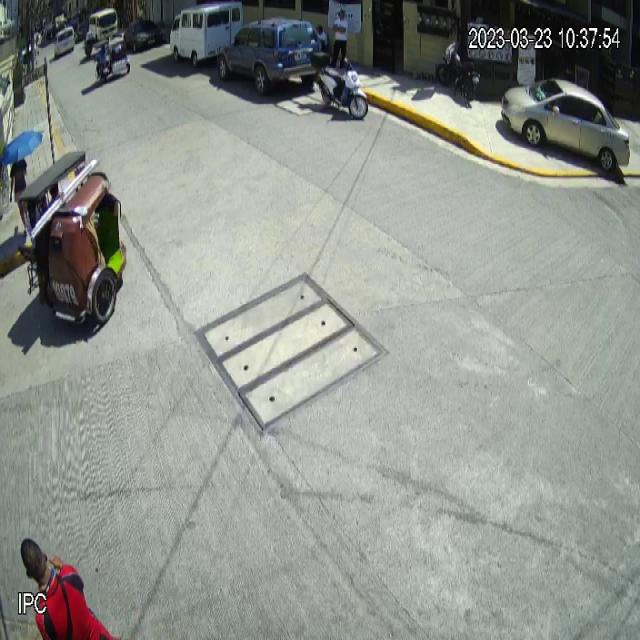Car: (501, 77, 631, 172), (217, 17, 323, 89)
Motorcycle: (310, 48, 368, 122)
Tricycle: (19, 149, 127, 326)
Van: (170, 0, 243, 70)
